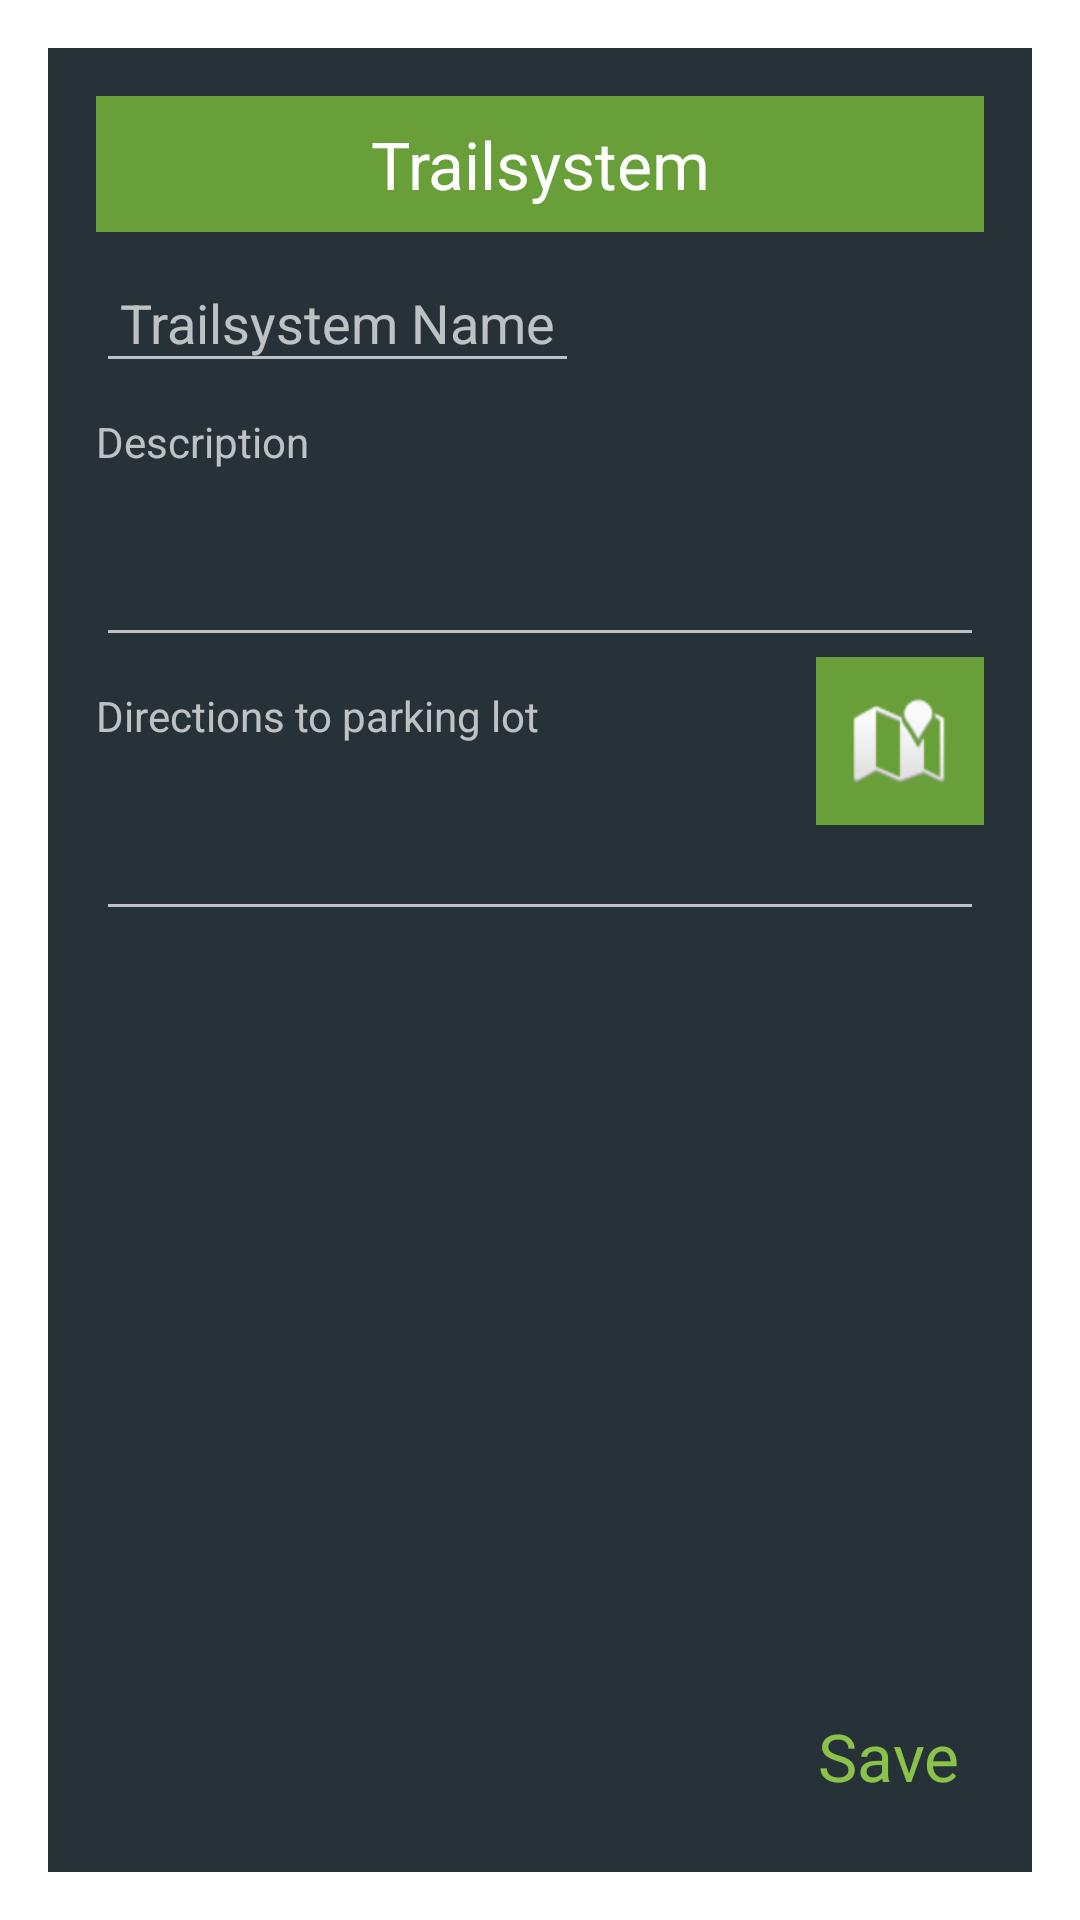

Point at icon controls on the screen. Image size 1080px x 1920px, points as (x,y).
map: (852,703)
